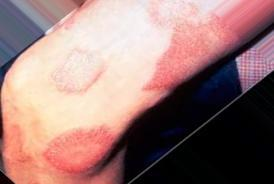Tick: (41, 125, 121, 177), (47, 38, 109, 104)
